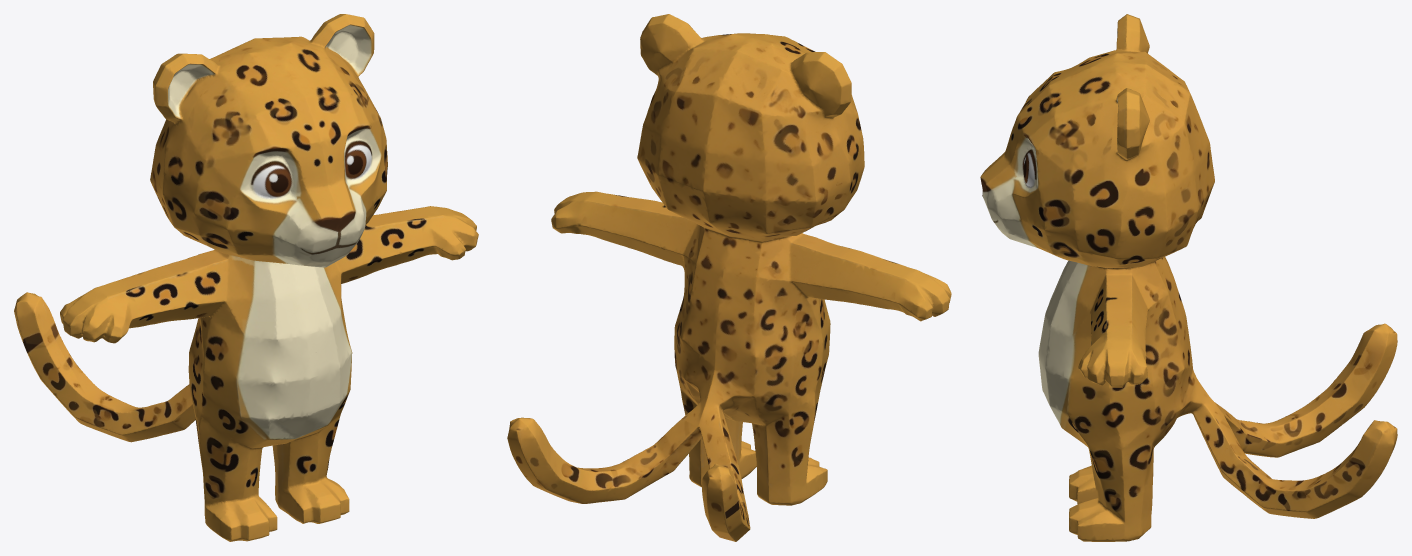
The model's file is leopard.glb.
3 renders of one model, left to right at view 1: azimuth 30°, elevation 25°; view 2: azimuth 150°, elevation 25°; view 3: azimuth 270°, elevation 25°, orthographic. The views are drawn at different scales.
Size of the model in its own units: 1.69 by 1.9 by 1.56.
1 material, 1 textured.
